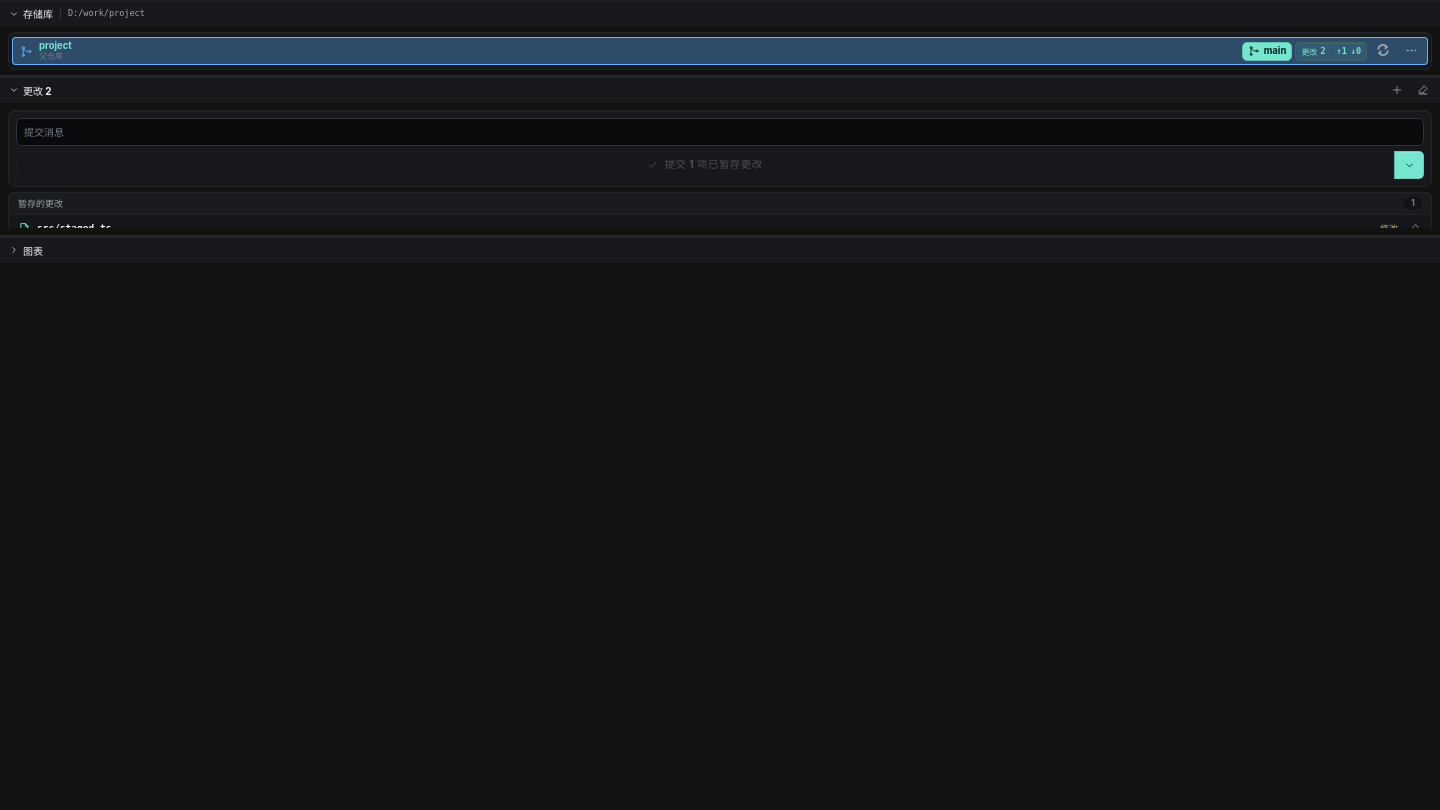
Test: GitPane branches and repository actions › opens the icon-and-text branch chooser in a portaled terminal popover
Check: the text "project" is shown, box [12, 36, 1242, 66]
Check: the list item "project" does not show "origin/main", box [12, 36, 1428, 66]
Step 1. Click the button with aria-label "切换分支，当前 main" → (1267, 51), box [1242, 42, 1292, 60]
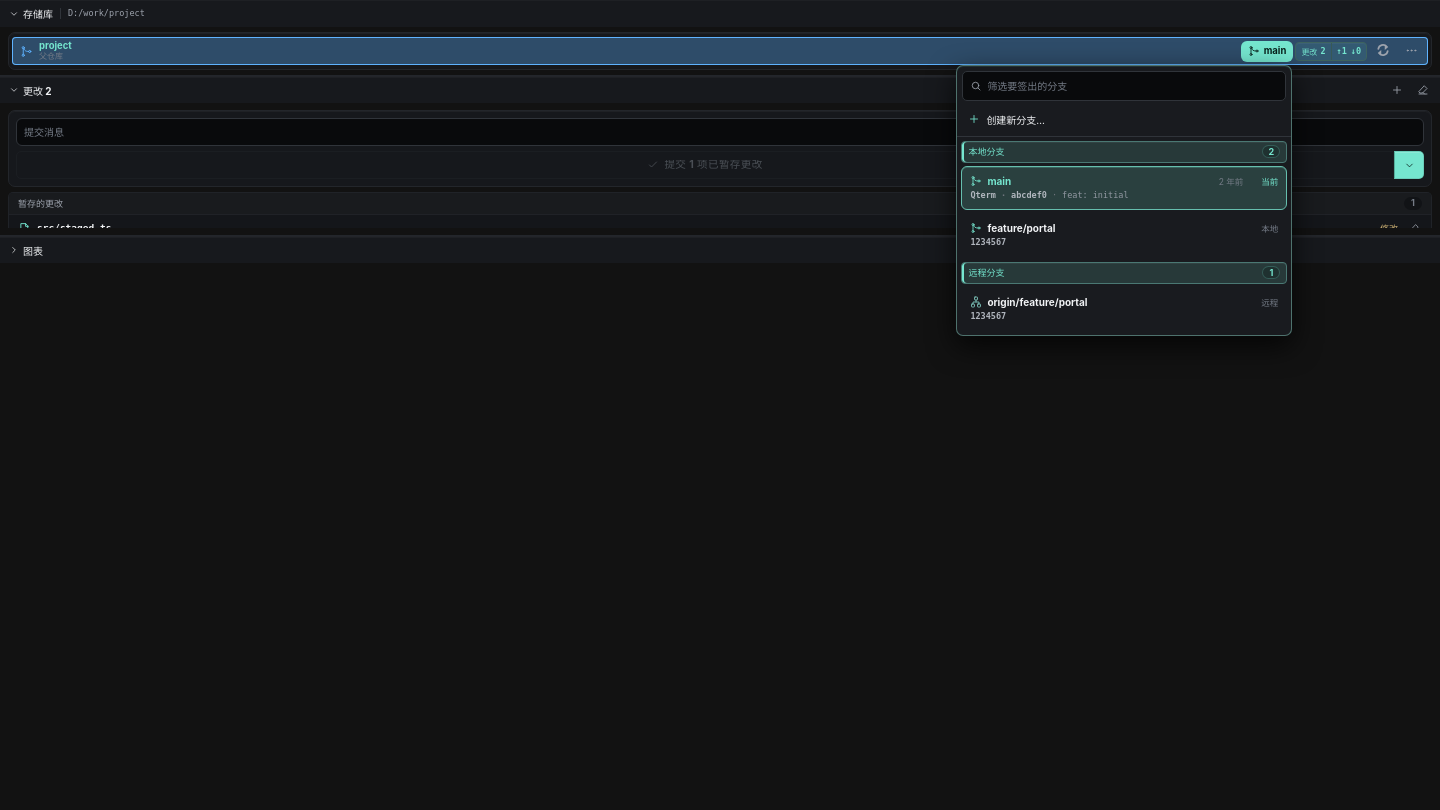
Check: the option "main" shows "Qterm", box [961, 166, 1287, 210]
Check: the option "main" shows "abcdef0", box [961, 166, 1287, 210]
Check: the option "feature/portal 本地 1234567" is shown, box [961, 212, 1287, 256]
Step 2. Type "feature" into the search field named "筛选分支" → (1133, 86), box [987, 72, 1278, 100]
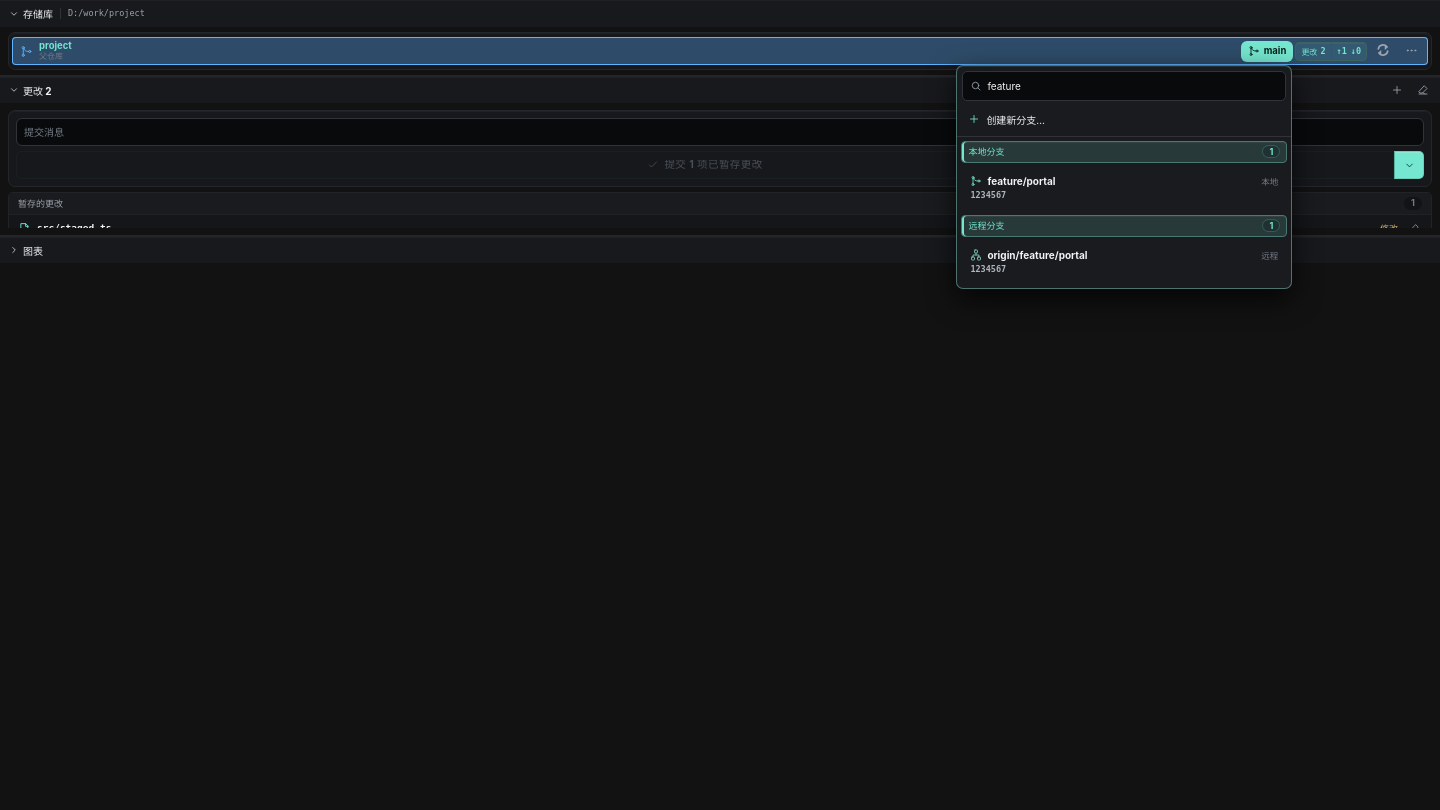
Step 3. Click the option "feature/portal 本地 1234567" → (1021, 181), box [961, 166, 1287, 210]
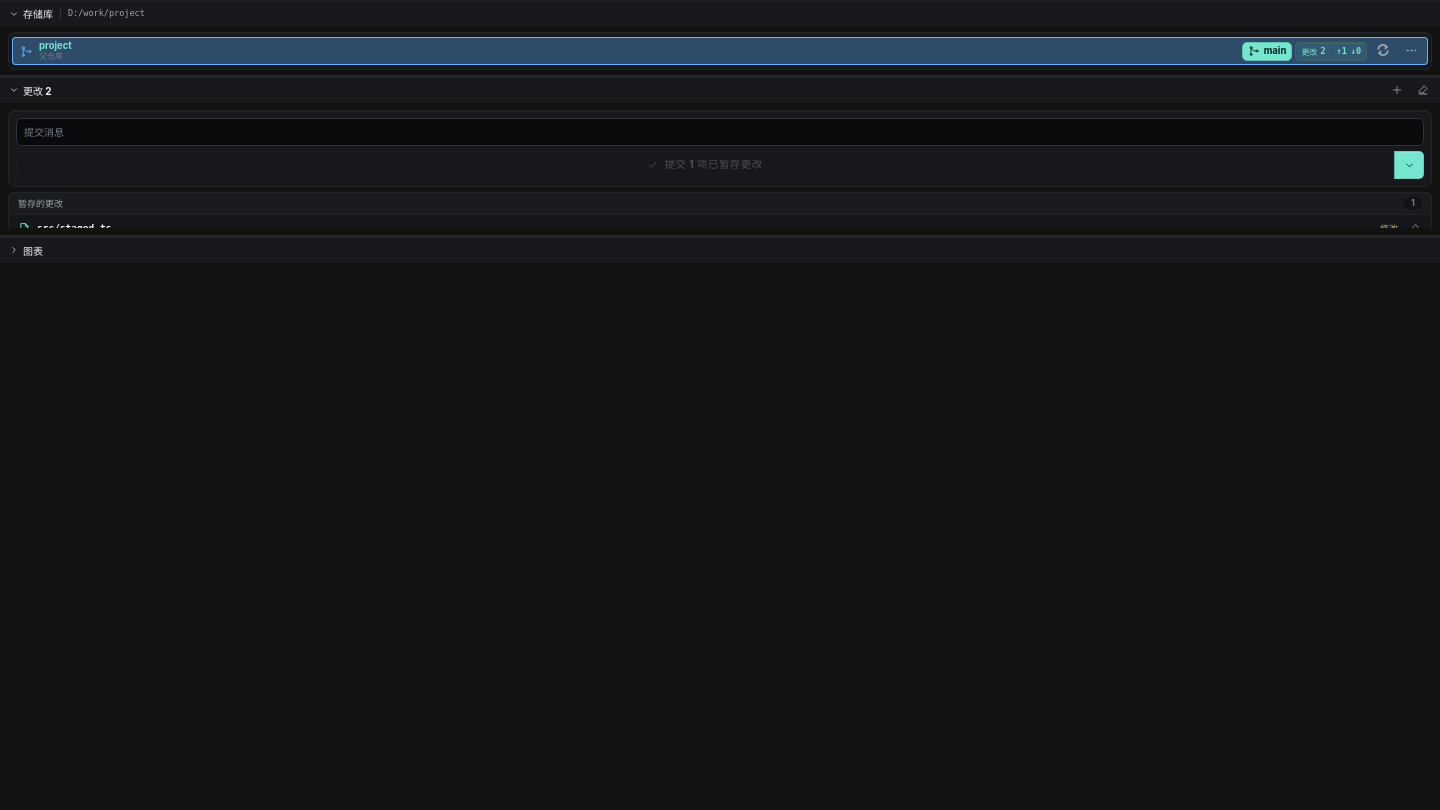
Check: the dialog "切换分支" is gone
